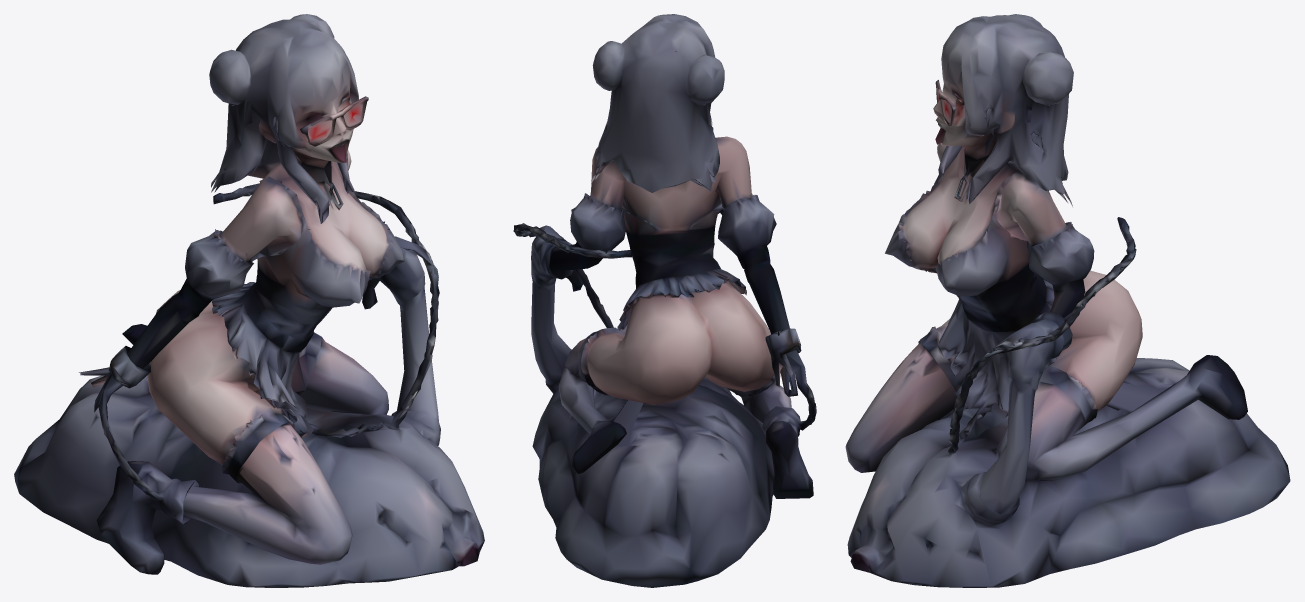
The model's file is 01a1a2e1-e78e-7b7c-b2f1-bdcbe858e9c0.glb.
The picture shows the model from 3 angles, left to right: view 1: azimuth 30°, elevation 25°; view 2: azimuth 150°, elevation 25°; view 3: azimuth 270°, elevation 25°; orthographic projection. The views are drawn at different scales.
Visible parts, largest first — view 1: node_0; view 2: node_0; view 3: node_0.
Boxes of the visible parts, x1,y1,x2,y2 form: node_0: (14, 14, 484, 587); node_0: (513, 14, 816, 587); node_0: (845, 14, 1290, 587).
Size of the model in its own units: 0.5985 by 0.8836 by 0.7153.
